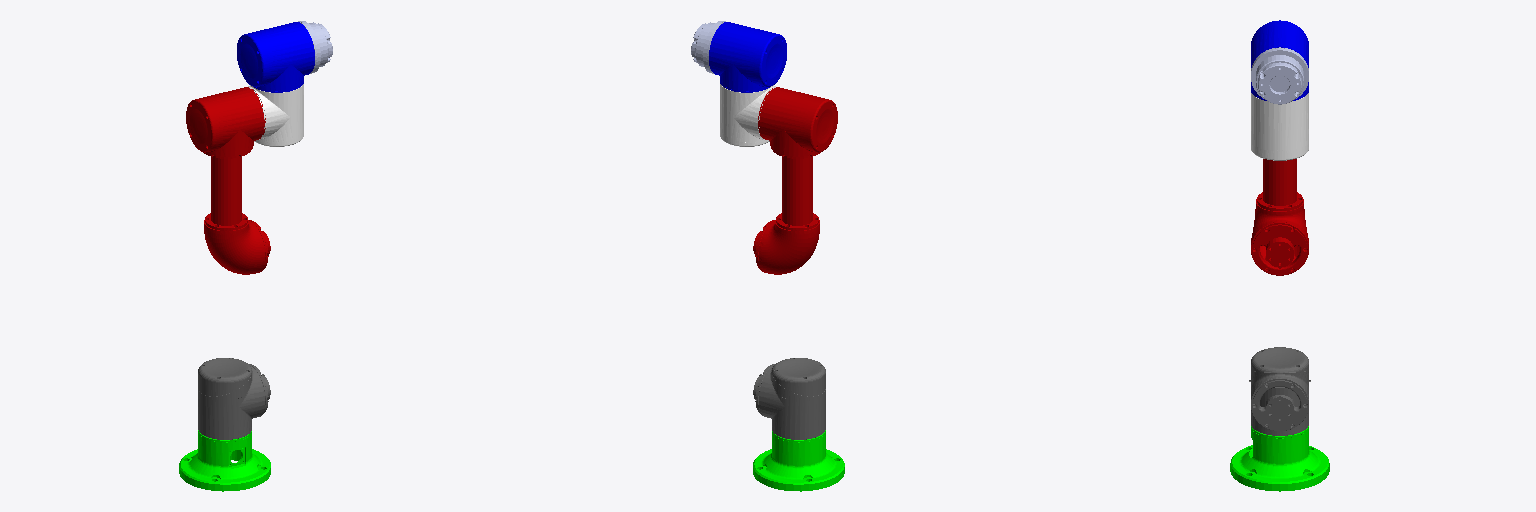
robot.urdf — robot_arm:
<?xml version="1.0" encoding="utf-8" ?>
<!-- This URDF was automatically created by SolidWorks to URDF Exporter! Originally created by [author] ([email redacted]) 
     Commit Version: 1.6.0-4-g7f85cfe  Build Version: 1.6.7995.38578
     For more information, please see http://wiki.ros.org/sw_urdf_exporter -->
<robot name="robot_arm">
    <link name="base_link">
        <inertial>
            <origin xyz="-0.000379135468760089 0.00044051065817062 0.025023985175857" rpy="0 0 0" />
            <mass value="0.195490498054091" />
            <inertia ixx="0.000197098942378015" ixy="1.73544380326031E-08" ixz="-1.8002259724736E-07" iyy="0.00020115978920217" iyz="-2.1699799937825E-06" izz="0.000316589137651227" />
        </inertial>
        <visual>
            <origin xyz="0 0 0" rpy="0 0 0" />
            <geometry>
                <mesh filename="package://robot_arm/meshes/base_link.STL" />
            </geometry>
            <material name="">
                <color rgba="0 1 0 1" />
            </material>
        </visual>
        <collision>
            <origin xyz="0 0 0" rpy="0 0 0" />
            <geometry>
                <mesh filename="package://robot_arm/meshes/base_link.STL" />
            </geometry>
        </collision>
    </link>
    <link name="Link_1">
        <inertial>
            <origin xyz="0.00458971266849917 -3.20046849174062E-05 0.0425574520928825" rpy="0 0 0" />
            <mass value="0.31284736542166" />
            <inertia ixx="0.000154646806877315" ixy="4.09236809944852E-09" ixz="-8.1373895526861E-06" iyy="0.000137640315457541" iyz="-1.10068804835806E-08" izz="0.000167440749331112" />
        </inertial>
        <visual>
            <origin xyz="0 0 0" rpy="0 0 0" />
            <geometry>
                <mesh filename="package://robot_arm/meshes/Link_1.STL" />
            </geometry>
            <material name="">
                <color rgba="0.43921568627451 0.43921568627451 0.43921568627451 1" />
            </material>
        </visual>
        <collision>
            <origin xyz="0 0 0" rpy="0 0 0" />
            <geometry>
                <mesh filename="package://robot_arm/meshes/Link_1.STL" />
            </geometry>
        </collision>
    </link>
    <joint name="Joint_1" type="revolute">
        <origin xyz="0 0 0.063" rpy="0 0 0" />
        <parent link="base_link" />
        <child link="Link_1" />
        <axis xyz="0 0 -1" />
        <limit lower="-3.14" upper="3.14" effort="100" velocity="100" />
    </joint>
    <link name="Link_2">
        <inertial>
            <origin xyz="0.0437291888718274 -3.17241634150665E-05 0.121342621403178" rpy="0 0 0" />
            <mass value="0.587907106128444" />
            <inertia ixx="0.000432111071621861" ixy="3.77302870663473E-09" ixz="-5.21839747889797E-10" iyy="0.000377843479563513" iyz="-1.33160548801769E-08" izz="0.000325262257620724" />
        </inertial>
        <visual>
            <origin xyz="0 0 0" rpy="0 0 0" />
            <geometry>
                <mesh filename="package://robot_arm/meshes/Link_2.STL" />
            </geometry>
            <material name="">
                <color rgba="0.576470588235294 0.396078431372549 0.749019607843137 1" />
            </material>
        </visual>
        <collision>
            <origin xyz="0 0 0" rpy="0 0 0" />
            <geometry>
                <mesh filename="package://robot_arm/meshes/Link_2.STL" />
            </geometry>
        </collision>
    </link>
    <joint name="Joint_2" type="revolute">
        <origin xyz="0.044 0 0.0465" rpy="0 0 0" />
        <parent link="Link_1" />
        <child link="Link_2" />
        <axis xyz="-1 0 0" />
        <limit lower="-3.14" upper="3.14" effort="100" velocity="100" />
    </joint>
    <link name="Link_3">
        <inertial>
            <origin xyz="-0.0342625302290131 -8.54393827617872E-07 0.130570556496791" rpy="0 0 0" />
            <mass value="0.368301492556341" />
            <inertia ixx="0.000284350975876608" ixy="1.99589868481762E-09" ixz="2.06902979779557E-06" iyy="0.000231576501898137" iyz="-3.41441474085351E-08" izz="0.00020347402203542" />
        </inertial>
        <visual>
            <origin xyz="0 0 0" rpy="0 0 0" />
            <geometry>
                <mesh filename="package://robot_arm/meshes/Link_3.STL" />
            </geometry>
            <material name="">
                <color rgba="0.749019607843137 0.0196078431372549 0.0352941176470588 1" />
            </material>
        </visual>
        <collision>
            <origin xyz="0 0 0" rpy="0 0 0" />
            <geometry>
                <mesh filename="package://robot_arm/meshes/Link_3.STL" />
            </geometry>
        </collision>
    </link>
    <joint name="Joint_3" type="revolute">
        <origin xyz="0 0 0.211" rpy="0 0 0" />
        <parent link="Link_2" />
        <child link="Link_3" />
        <axis xyz="-1 0 0" />
        <limit lower="-3.14" upper="3.14" effort="100" velocity="100" />
    </joint>
    <link name="Link_4">
        <inertial>
            <origin xyz="0.0279097628469686 1.05492889386494E-06 0.000741999532285043" rpy="0 0 0" />
            <mass value="0.229125165376225" />
            <inertia ixx="0.000131116825625379" ixy="2.407566633754E-08" ixz="-5.24425161186352E-06" iyy="0.000108737830933017" iyz="-5.32181525503191E-10" izz="0.000136962636362692" />
        </inertial>
        <visual>
            <origin xyz="0 0 0" rpy="0 0 0" />
            <geometry>
                <mesh filename="package://robot_arm/meshes/Link_4.STL" />
            </geometry>
            <material name="">
                <color rgba="1 1 1 1" />
            </material>
        </visual>
        <collision>
            <origin xyz="0 0 0" rpy="0 0 0" />
            <geometry>
                <mesh filename="package://robot_arm/meshes/Link_4.STL" />
            </geometry>
        </collision>
    </link>
    <joint name="Joint_4" type="revolute">
        <origin xyz="-0.0041003 0 0.1945" rpy="0 0 0" />
        <parent link="Link_3" />
        <child link="Link_4" />
        <axis xyz="1 0 0" />
        <limit lower="-3.14" upper="3.14" effort="100" velocity="100" />
    </joint>
    <link name="Link_5">
        <inertial>
            <origin xyz="0.000517900737938733 4.3776640414793E-05 0.032331216650774" rpy="0 0 0" />
            <mass value="0.199706758026391" />
            <inertia ixx="0.000126934835025011" ixy="-9.48676769820221E-09" ixz="-5.09905639766148E-06" iyy="9.85451693816129E-05" iyz="-1.08669959041328E-07" izz="0.000113330240712783" />
        </inertial>
        <visual>
            <origin xyz="0 0 0" rpy="0 0 0" />
            <geometry>
                <mesh filename="package://robot_arm/meshes/Link_5.STL" />
            </geometry>
            <material name="">
                <color rgba="0.00784313725490196 0.0117647058823529 1 1" />
            </material>
        </visual>
        <collision>
            <origin xyz="0 0 0" rpy="0 0 0" />
            <geometry>
                <mesh filename="package://robot_arm/meshes/Link_5.STL" />
            </geometry>
        </collision>
    </link>
    <joint name="Joint_5" type="revolute">
        <origin xyz="0.0396 0 0.0379" rpy="0 0 0" />
        <parent link="Link_4" />
        <child link="Link_5" />
        <axis xyz="0 0 1" />
        <limit lower="-3.14" upper="3.14" effort="100" velocity="100" />
    </joint>
    <link name="Link_6">
        <inertial>
            <origin xyz="0.0093015 -8.3655E-07 0.001069" rpy="0 0 0" />
            <mass value="0.060816" />
            <inertia ixx="3.898E-05" ixy="3.5762E-10" ixz="-1.8499E-07" iyy="2.3062E-05" iyz="9.6148E-10" izz="2.3064E-05" />
        </inertial>
        <visual>
            <origin xyz="0 0 0" rpy="0 0 0" />
            <geometry>
                <mesh filename="package://robot_arm/meshes/Link_6.STL" />
            </geometry>
            <material name="">
                <color rgba="0.79216 0.81961 0.93333 1" />
            </material>
        </visual>
        <collision>
            <origin xyz="0 0 0" rpy="0 0 0" />
            <geometry>
                <mesh filename="package://robot_arm/meshes/Link_6.STL" />
            </geometry>
        </collision>
    </link>
    <joint name="Joint_6" type="revolute">
        <origin xyz="0.0379 0 0.0396" rpy="0 0 0" />
        <parent link="Link_5" />
        <child link="Link_6" />
        <axis xyz="1 0 0" />
        <limit lower="-3.14" upper="3.14" effort="100" velocity="100" />
    </joint>
    <transmission name="trans_Joint_1">
        <type>transmission_interface/SimpleTransmission</type>
        <joint name="Joint_1">
            <hardwareInterface>hardware_interface/PositionJointInterface</hardwareInterface>
        </joint>
        <actuator name="Joint_1_motor">
            <hardwareInterface>hardware_interface/PositionJointInterface</hardwareInterface>
            <mechanicalReduction>1</mechanicalReduction>
        </actuator>
    </transmission>
    <transmission name="trans_Joint_2">
        <type>transmission_interface/SimpleTransmission</type>
        <joint name="Joint_2">
            <hardwareInterface>hardware_interface/PositionJointInterface</hardwareInterface>
        </joint>
        <actuator name="Joint_2_motor">
            <hardwareInterface>hardware_interface/PositionJointInterface</hardwareInterface>
            <mechanicalReduction>1</mechanicalReduction>
        </actuator>
    </transmission>
    <transmission name="trans_Joint_3">
        <type>transmission_interface/SimpleTransmission</type>
        <joint name="Joint_3">
            <hardwareInterface>hardware_interface/PositionJointInterface</hardwareInterface>
        </joint>
        <actuator name="Joint_3_motor">
            <hardwareInterface>hardware_interface/PositionJointInterface</hardwareInterface>
            <mechanicalReduction>1</mechanicalReduction>
        </actuator>
    </transmission>
    <transmission name="trans_Joint_4">
        <type>transmission_interface/SimpleTransmission</type>
        <joint name="Joint_4">
            <hardwareInterface>hardware_interface/PositionJointInterface</hardwareInterface>
        </joint>
        <actuator name="Joint_4_motor">
            <hardwareInterface>hardware_interface/PositionJointInterface</hardwareInterface>
            <mechanicalReduction>1</mechanicalReduction>
        </actuator>
    </transmission>
    <transmission name="trans_Joint_5">
        <type>transmission_interface/SimpleTransmission</type>
        <joint name="Joint_5">
            <hardwareInterface>hardware_interface/PositionJointInterface</hardwareInterface>
        </joint>
        <actuator name="Joint_5_motor">
            <hardwareInterface>hardware_interface/PositionJointInterface</hardwareInterface>
            <mechanicalReduction>1</mechanicalReduction>
        </actuator>
    </transmission>
    <transmission name="trans_Joint_6">
        <type>transmission_interface/SimpleTransmission</type>
        <joint name="Joint_6">
            <hardwareInterface>hardware_interface/PositionJointInterface</hardwareInterface>
        </joint>
        <actuator name="Joint_6_motor">
            <hardwareInterface>hardware_interface/PositionJointInterface</hardwareInterface>
            <mechanicalReduction>1</mechanicalReduction>
        </actuator>
    </transmission>
    <gazebo>
        <plugin name="gazebo_ros_control">
            <robotNamespace>/</robotNamespace>
        </plugin>
    </gazebo>
</robot>

--- Render facts (derived) ---
Views: 3 orthographic renders of the robot side by side, from view 1: azimuth 30°, elevation 25°; view 2: azimuth 150°, elevation 25°; view 3: azimuth 270°, elevation 25°.
Robot: robot_arm — 7 links, 6 joints (6 revolute); root link base_link; default pose: all joints at 0.
Links seen in each view (by area): view 1: Link_3, Link_1, Link_5, base_link, Link_4, Link_6; view 2: Link_3, Link_1, Link_5, base_link, Link_4, Link_6; view 3: Link_3, Link_1, base_link, Link_4, Link_6, Link_5.
Link boxes in pixels (<box>): Link_3: <box>186,87,270,274</box>; Link_1: <box>198,358,270,439</box>; Link_5: <box>237,22,314,92</box>; base_link: <box>179,430,270,491</box>; Link_4: <box>248,84,303,146</box>; Link_6: <box>298,21,332,73</box>; Link_3: <box>753,87,837,274</box>; Link_1: <box>753,358,825,439</box>; Link_5: <box>709,22,786,92</box>; base_link: <box>753,430,844,491</box>; Link_4: <box>720,84,775,146</box>; Link_6: <box>691,21,725,73</box>; Link_3: <box>1251,159,1308,275</box>; Link_1: <box>1249,347,1310,435</box>; base_link: <box>1230,426,1329,491</box>; Link_4: <box>1251,93,1308,160</box>; Link_6: <box>1251,47,1308,104</box>; Link_5: <box>1251,20,1308,100</box>.
Bounding box of the posed robot: 0.2108 × 0.122 × 0.6285 m (x, y, z).
6 mesh visuals loaded from 7 distinct referenced files (6 binary STL); not drawn: 1 (reference not matched to a file when rendering).
